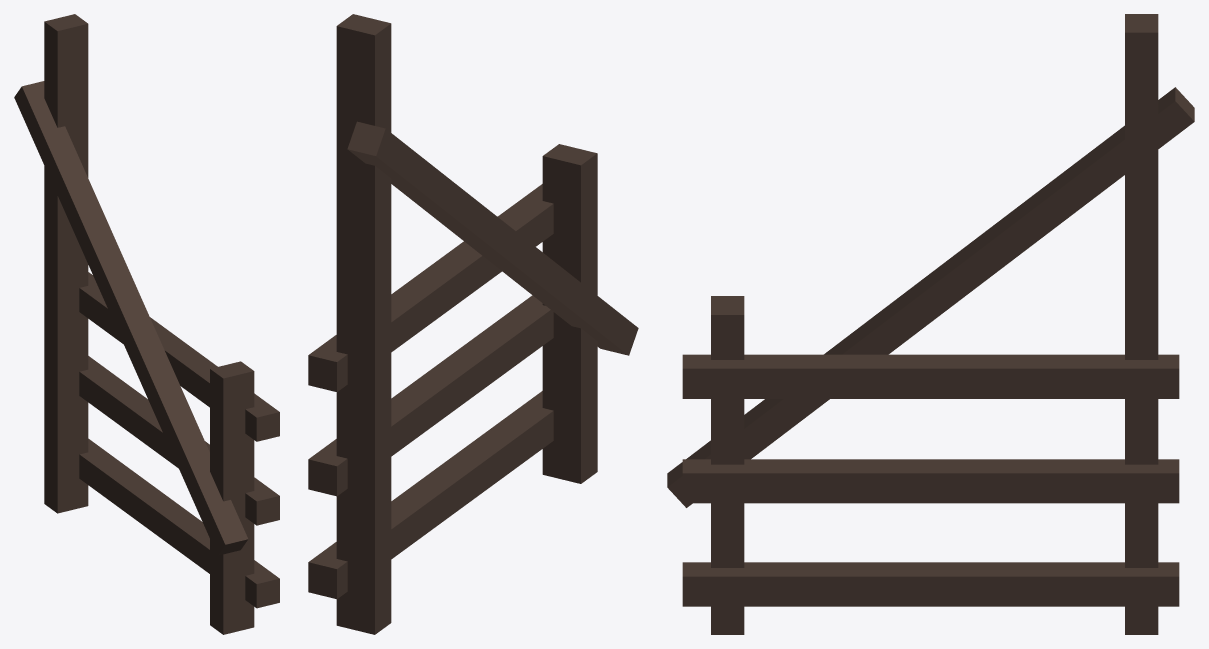
The model's file is brama_prawa.fbx.
3 renders of one model, left to right at view 1: azimuth 30°, elevation 25°; view 2: azimuth 150°, elevation 25°; view 3: azimuth 270°, elevation 25°, orthographic. The views are drawn at different scales.
Visible parts, largest first — view 1: Cube.001; view 2: Cube.001; view 3: Cube.001.
Boxes of the visible parts, bbox=[...] form: Cube.001: bbox=[14, 14, 279, 634]; Cube.001: bbox=[308, 14, 638, 634]; Cube.001: bbox=[667, 14, 1194, 634].
Size of the model in its own units: 1.49 by 11.35 by 9.01.
